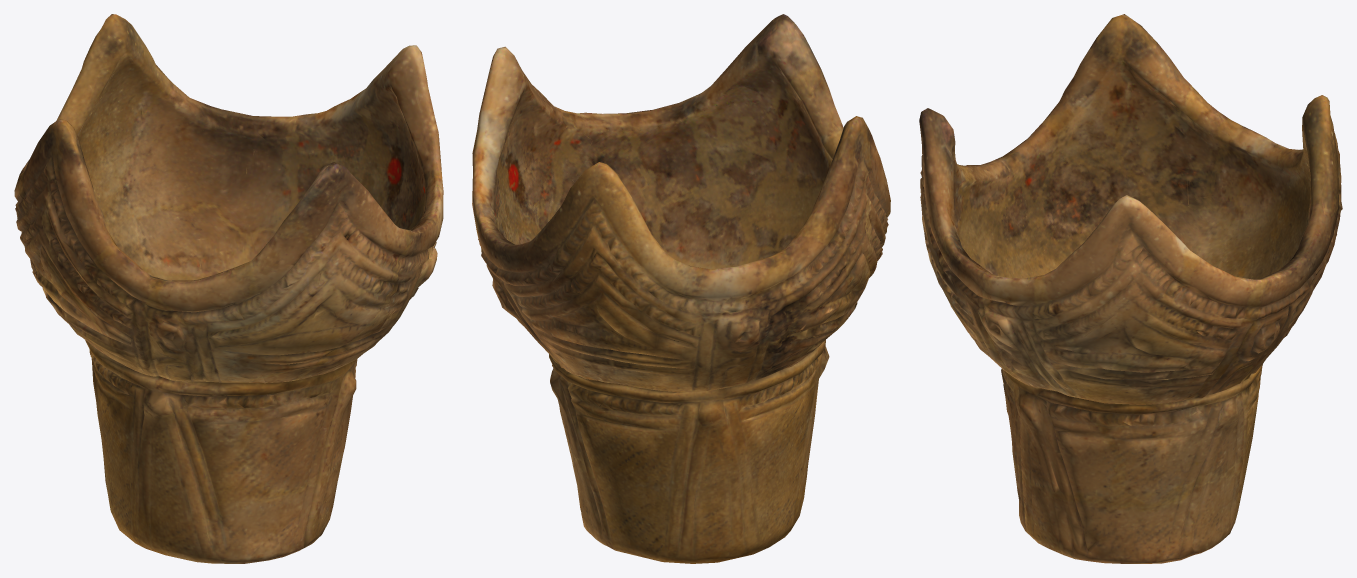
The picture shows the model from 3 angles, left to right: view 1: azimuth 30°, elevation 25°; view 2: azimuth 150°, elevation 25°; view 3: azimuth 270°, elevation 25°; orthographic projection. The views are drawn at different scales.
Parts seen in each view (by area): view 1: SB0002_low; view 2: SB0002_low; view 3: SB0002_low.
Part boxes in pixels (x1,y1,x2,y2): SB0002_low: (14, 14, 443, 563); SB0002_low: (472, 14, 890, 563); SB0002_low: (919, 14, 1342, 563).
Size of the model in its own units: 208 by 234 by 208.
1 material, 1 textured.
